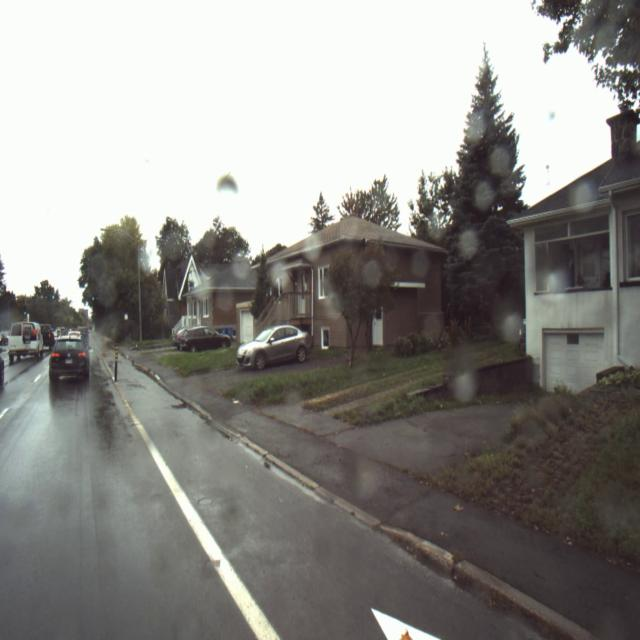car: (236, 326, 312, 369), (49, 336, 90, 387), (177, 326, 230, 352), (8, 323, 43, 361)
